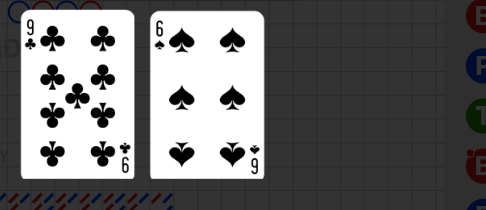6S: (248, 143, 260, 176)
9C: (24, 18, 38, 53)
